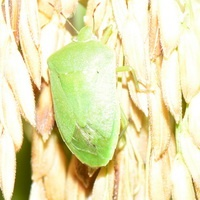insect: (46, 24, 121, 168), (47, 26, 119, 166)
